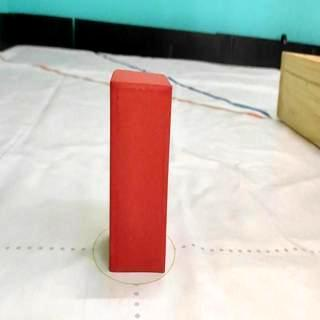redbox: (108, 68, 174, 274)
